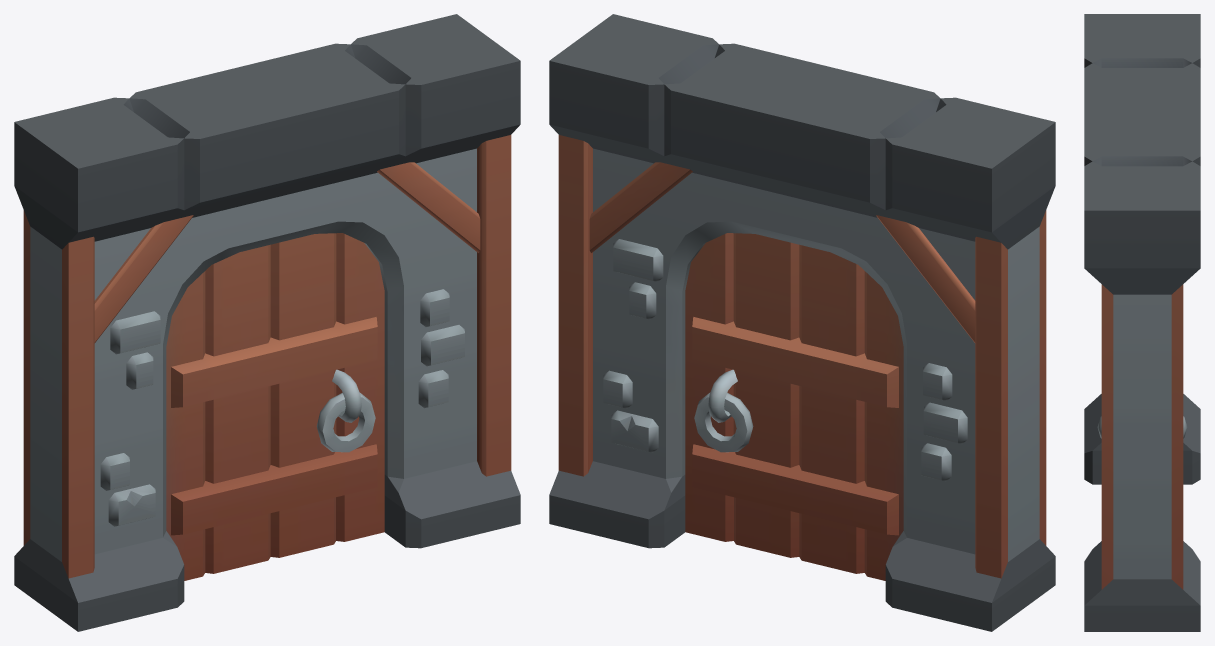
File: wall_doorway_scaffold.glb
3 views of the same model, side by side, from view 1: azimuth 30°, elevation 25°; view 2: azimuth 150°, elevation 25°; view 3: azimuth 270°, elevation 25° (orthographic). The views are drawn at different scales.
Parts seen in each view (by area): view 1: wall_doorway_scaffold, wall_doorway_scaffold_door; view 2: wall_doorway_scaffold, wall_doorway_scaffold_door; view 3: wall_doorway_scaffold.
Part boxes in pixels (x1=…): wall_doorway_scaffold: x1=14, y1=14, x2=520, y2=631; wall_doorway_scaffold_door: x1=166, y1=233, x2=384, y2=580; wall_doorway_scaffold: x1=549, y1=14, x2=1055, y2=631; wall_doorway_scaffold_door: x1=685, y1=233, x2=903, y2=580; wall_doorway_scaffold: x1=1084, y1=14, x2=1200, y2=631.
Size of the model in its own units: 4 by 4 by 1.
Materials: 1 (1 with a texture image).
